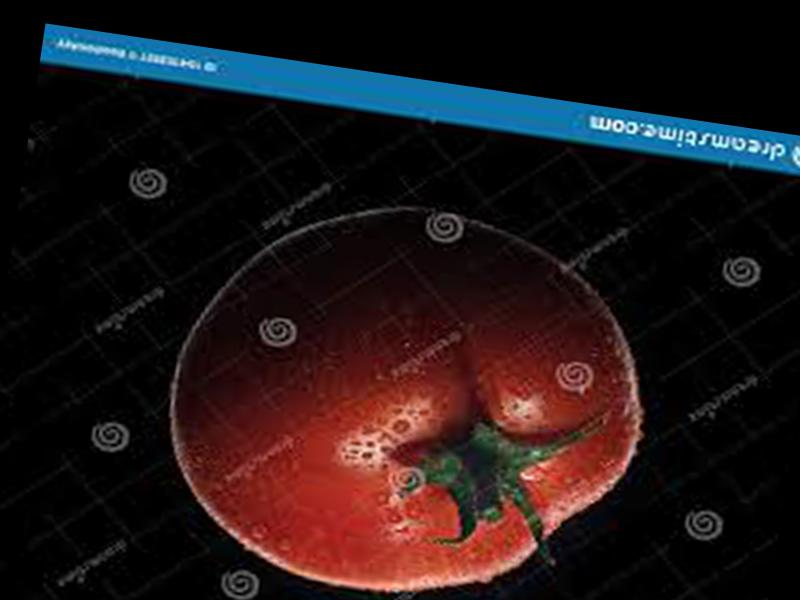Tomato: (144, 178, 668, 600)
